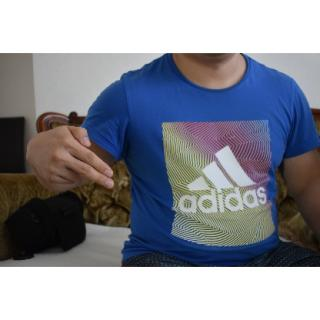AYN: (25, 123, 122, 193)
